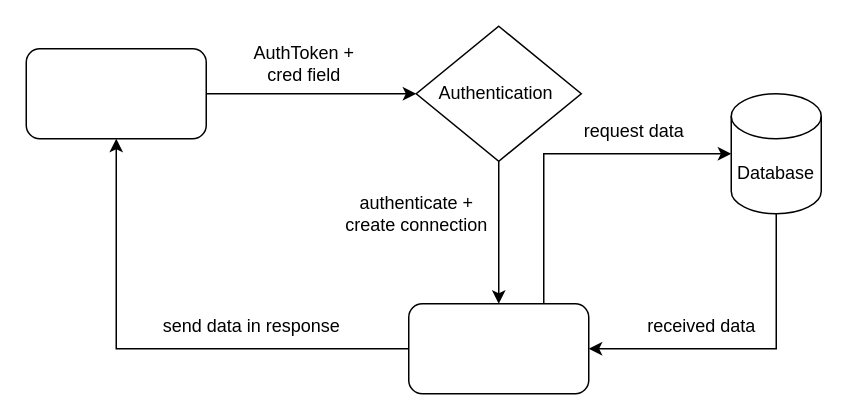
The diagram is 848 pixels wide and 420 high, and some of its shapes have lost their labels. Here are the shapes that lost their labels. From the top down, the centre of each, then its label:
point 115,93: Veris Server
point 498,348: Client API server
